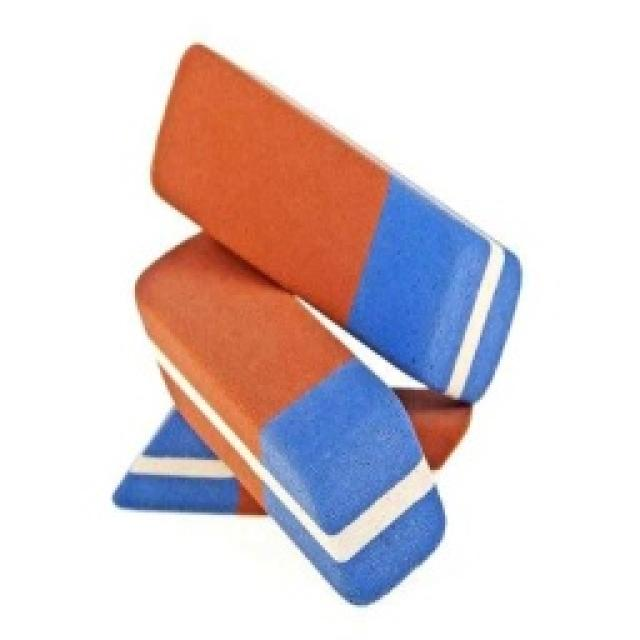Silgi: (150, 40, 565, 412)
